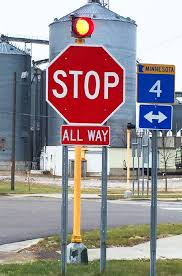stop_sign: (46, 44, 126, 125)
